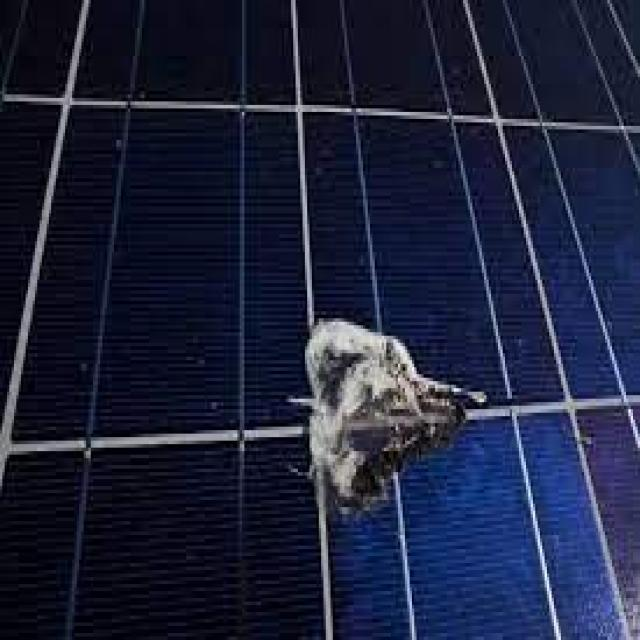Bird-drop: (288, 315, 487, 519)
